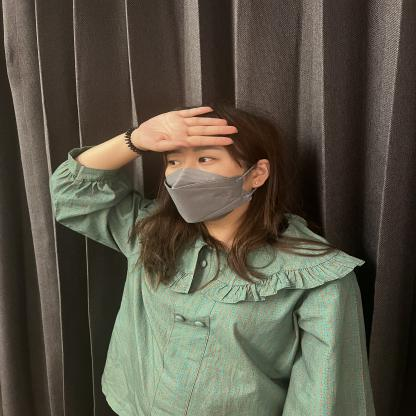Sick: (72, 69, 284, 252)
